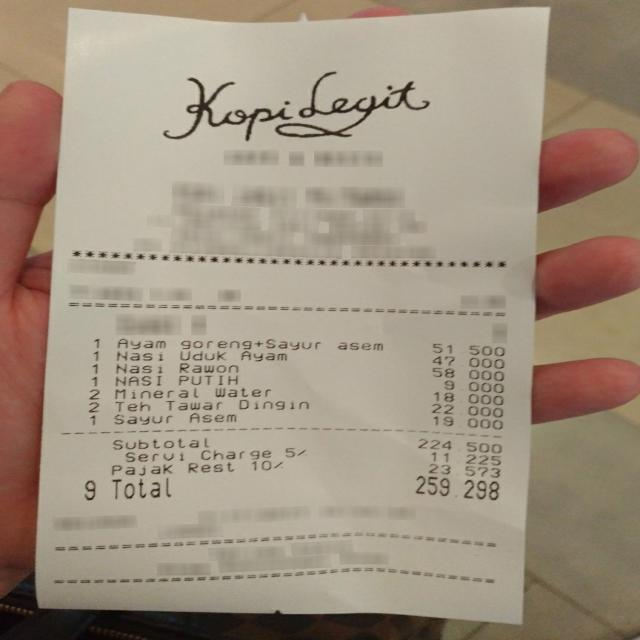kertas: (34, 0, 547, 625)
